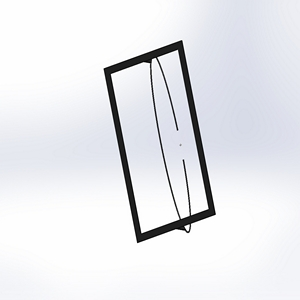circle: (99, 39, 219, 244)
